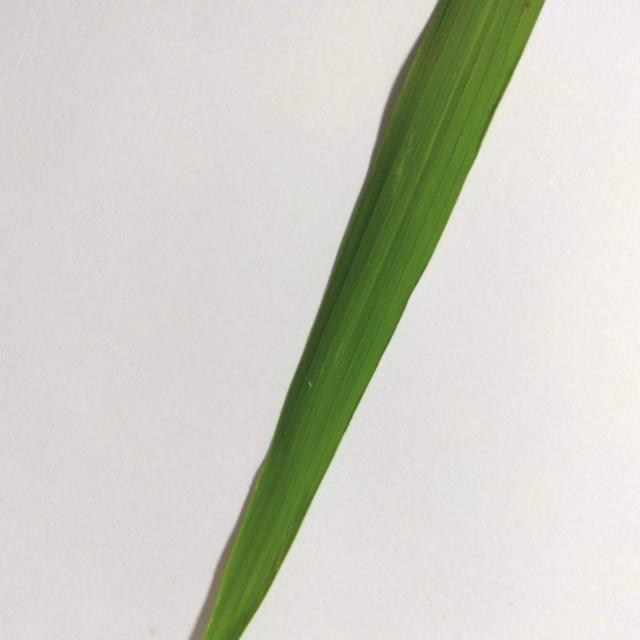healthy: (133, 0, 564, 640)
